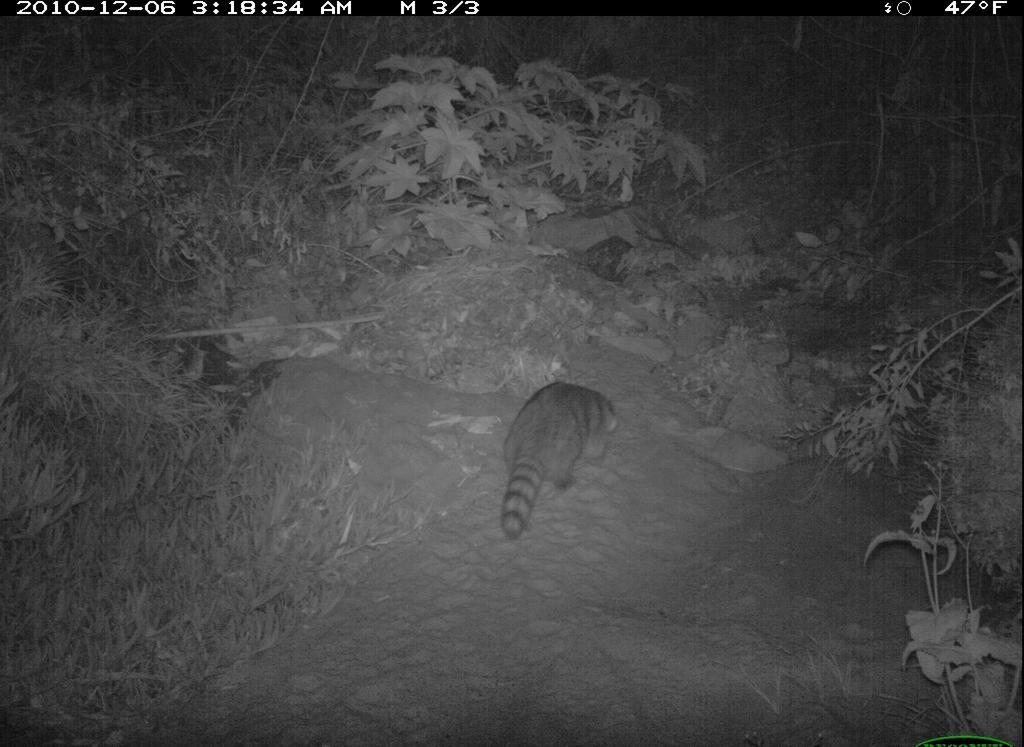raccoon: (487, 359, 629, 546)
